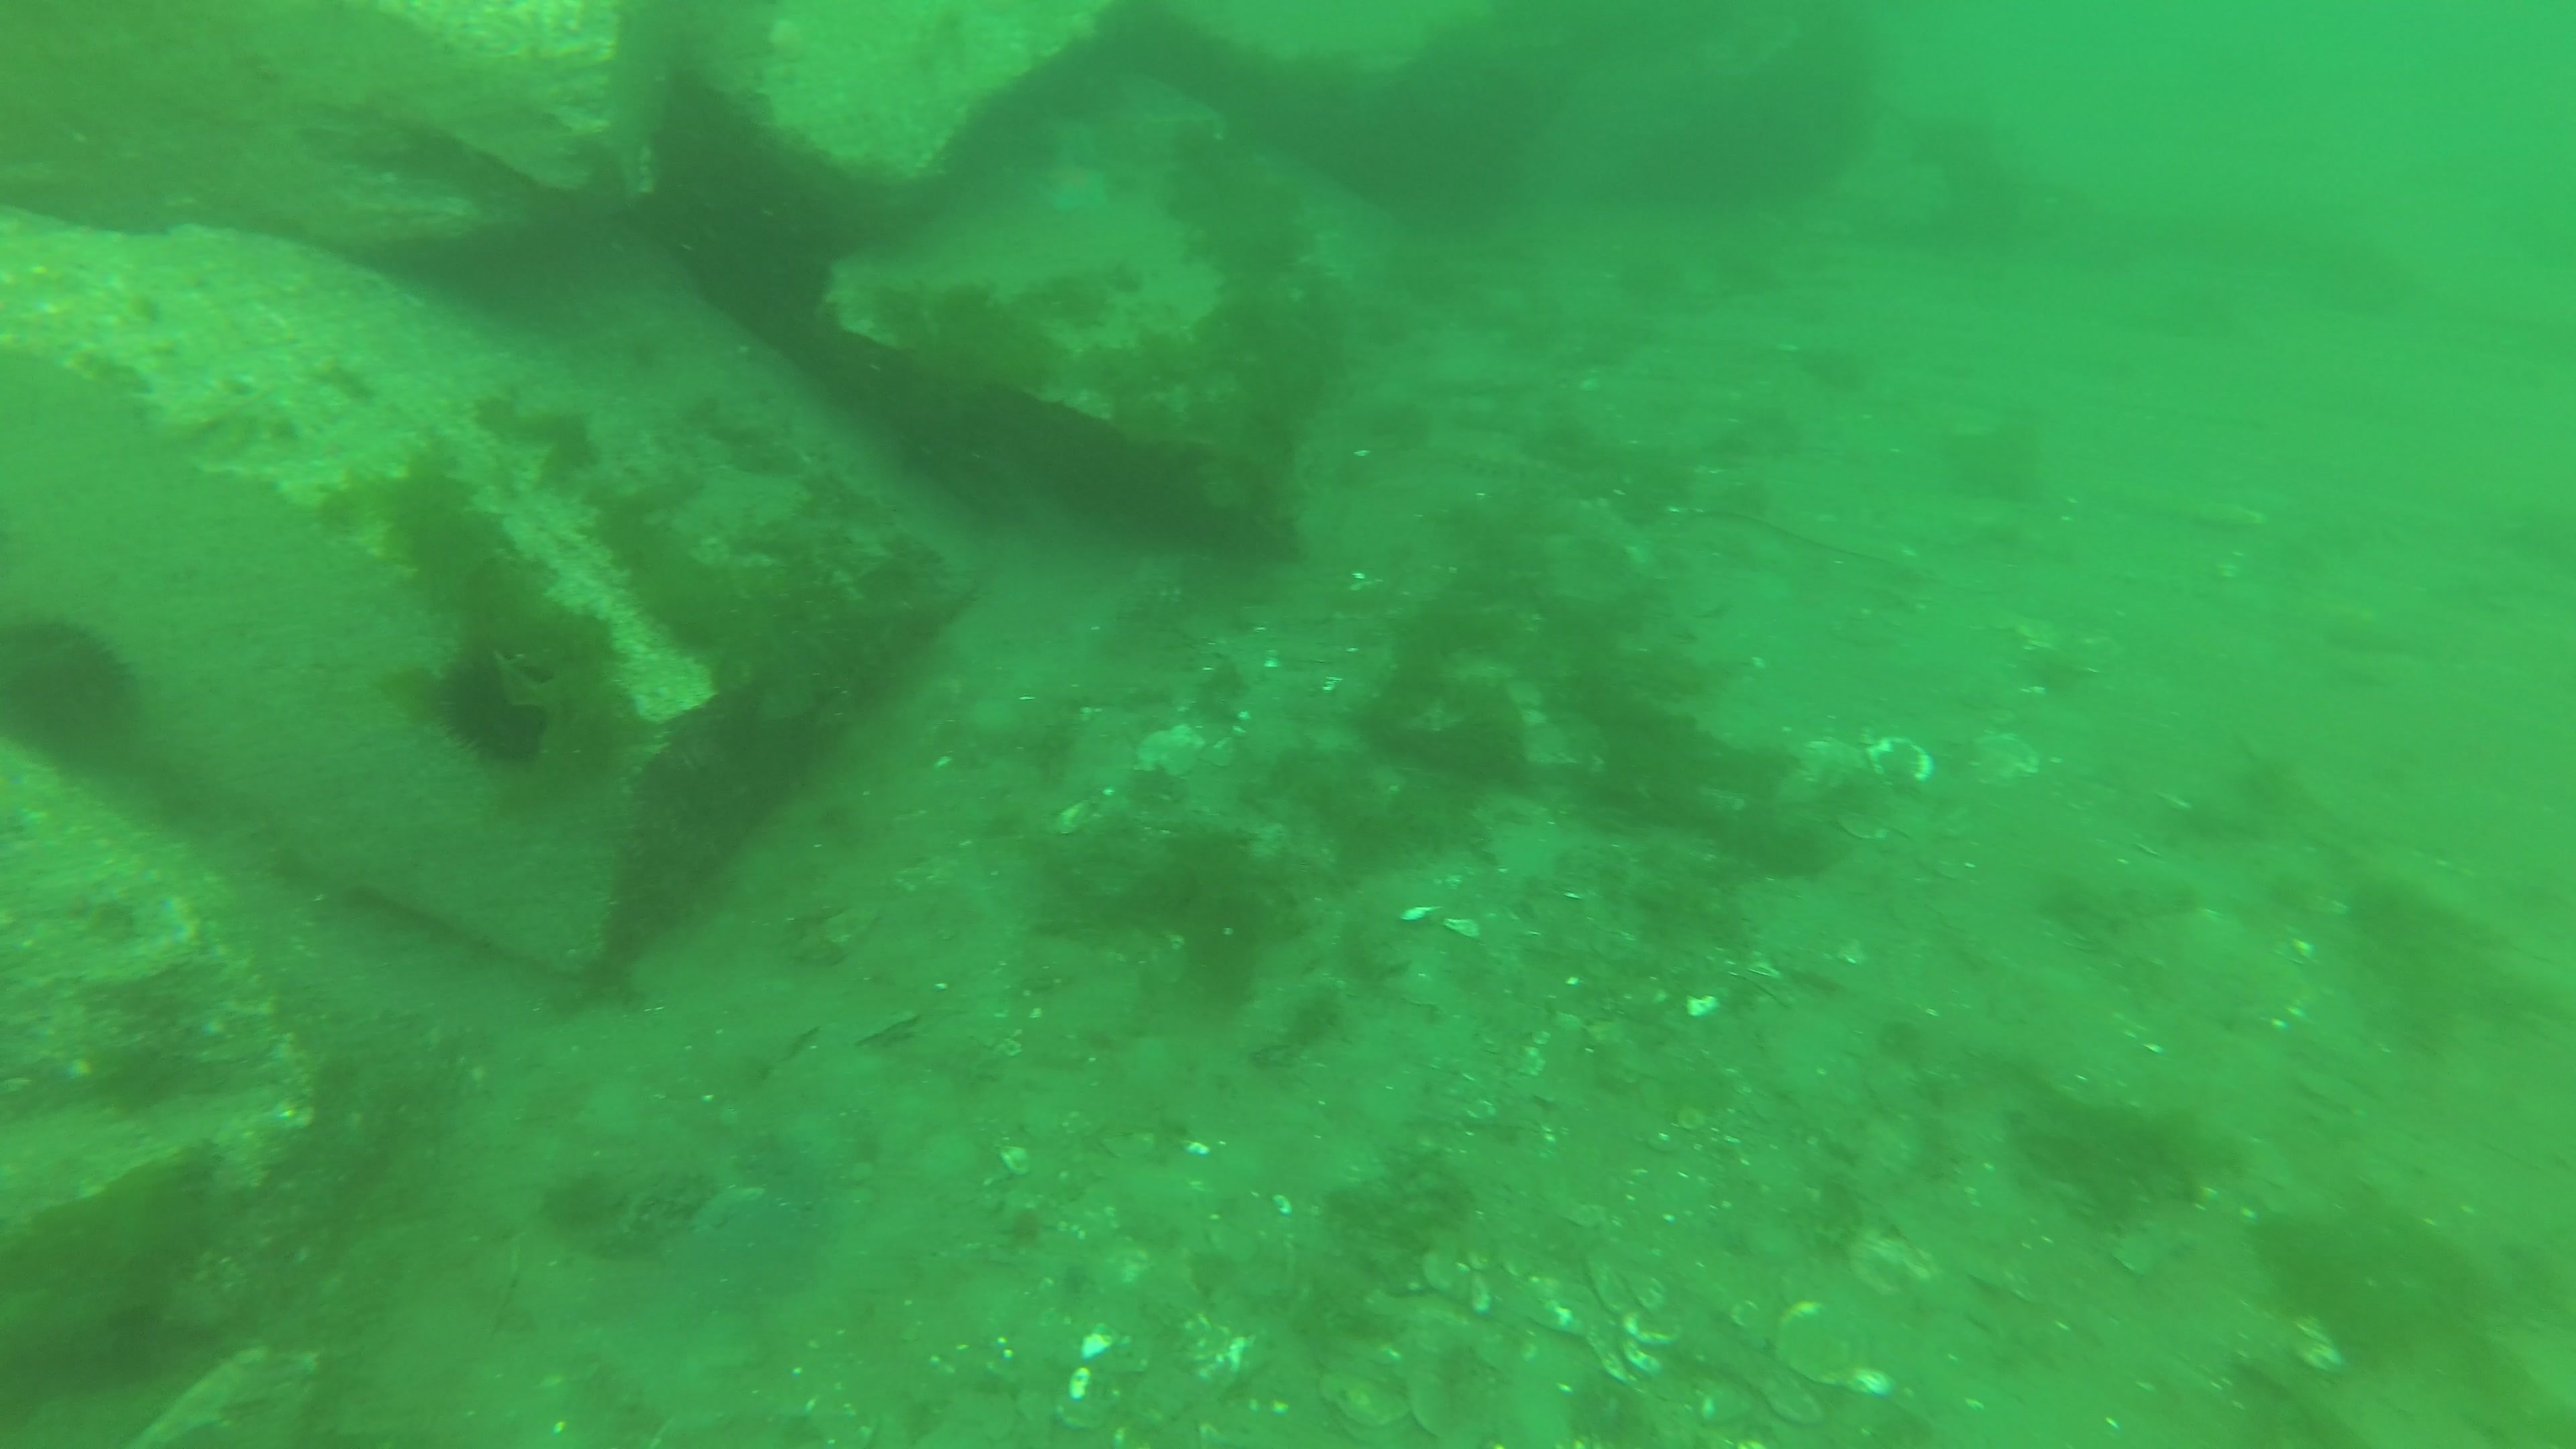echinus: (2, 603, 147, 764), (423, 644, 566, 775)
starfish: (1021, 145, 1125, 223)
